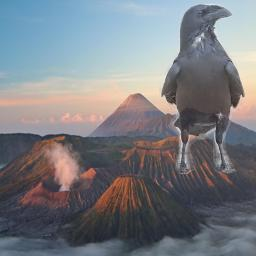Crow: (159, 3, 247, 174)
